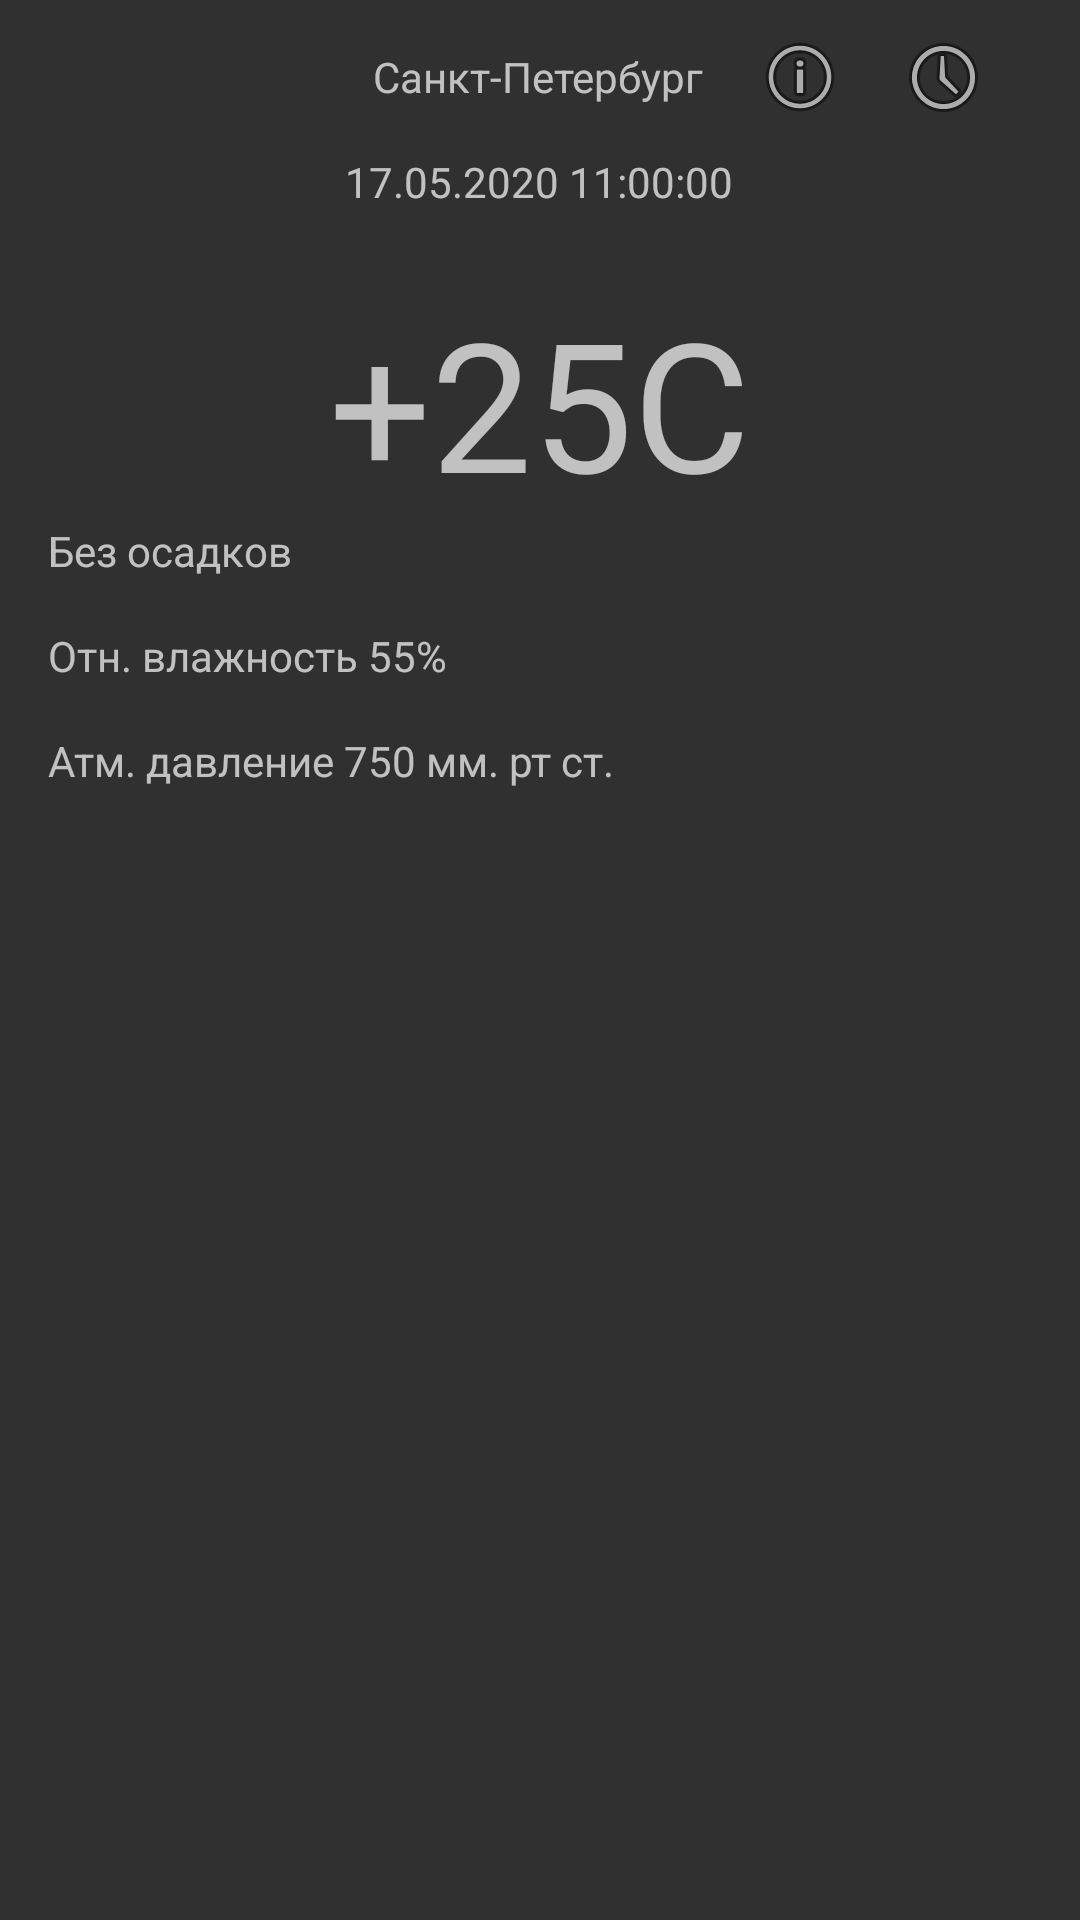

Screen size 1080*1920. Icon name, then its center in pixels as point (x, y):
info details: point (800, 77)
recent history: point (943, 77)
